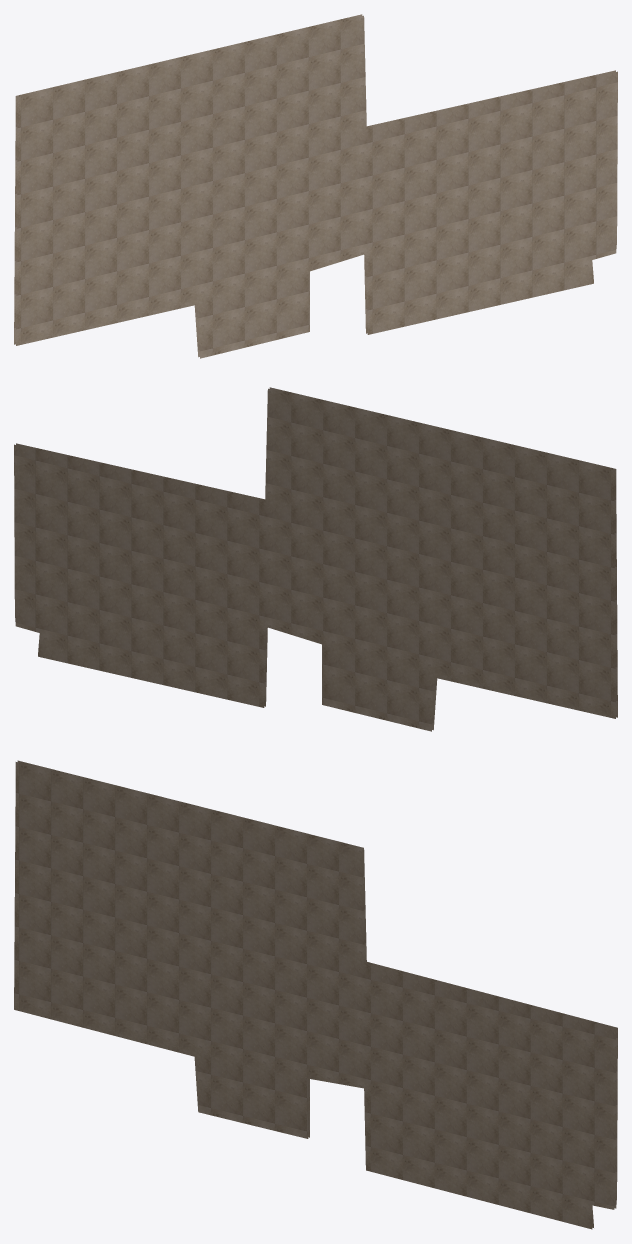
File: floor_44.obj
3 renders of one model, top to bottom at view 1: azimuth 30°, elevation 25°; view 2: azimuth 150°, elevation 25°; view 3: azimuth 330°, elevation 25°, orthographic.
Parts seen in each view (by area): view 1: floor_44; view 2: floor_44; view 3: floor_44.
Part boxes in pixels (box(x1,y1,x2,y2)): floor_44: box(14, 14, 617, 358); floor_44: box(14, 387, 617, 731); floor_44: box(14, 760, 617, 1229).
Bounding box in the file's own units: 18.84 × 9.78 × 0.1.
1 material, 1 textured.
